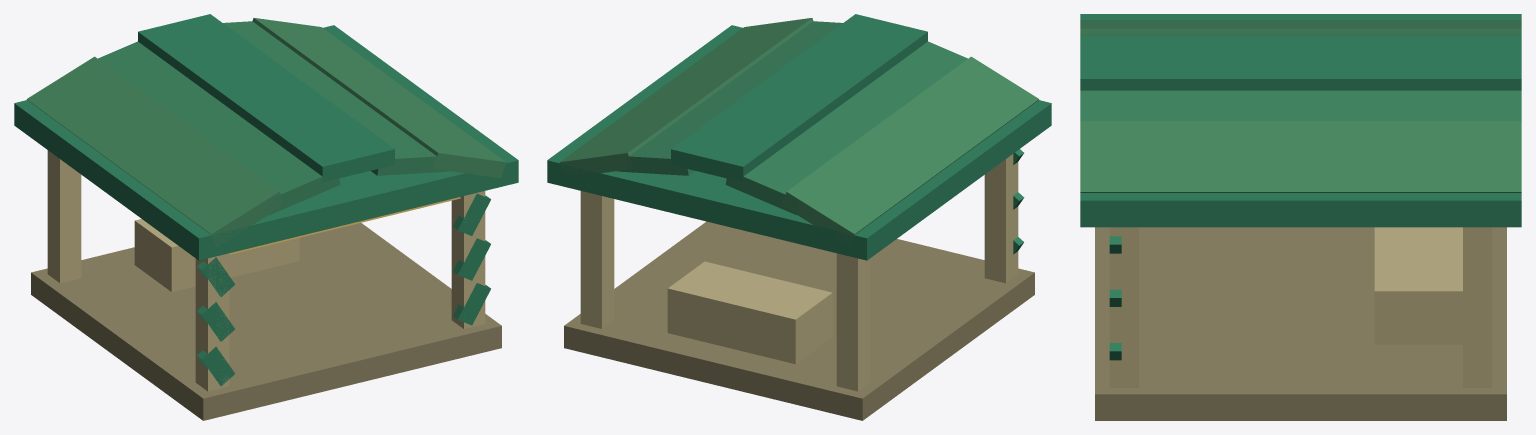
File: theme_elf.glb
The picture shows the model from 3 angles, left to right: view 1: azimuth 30°, elevation 25°; view 2: azimuth 150°, elevation 25°; view 3: azimuth 270°, elevation 25°; orthographic projection. The views are drawn at different scales.
Parts seen in each view (by area): view 1: theme_elf; view 2: theme_elf; view 3: theme_elf.
Boxes of the visible parts, box(x1,y1,x2,y2) form: theme_elf: box(14, 14, 518, 420); theme_elf: box(547, 14, 1051, 420); theme_elf: box(1080, 14, 1521, 420).
Size of the model in its own units: 15 by 10.35 by 15.
